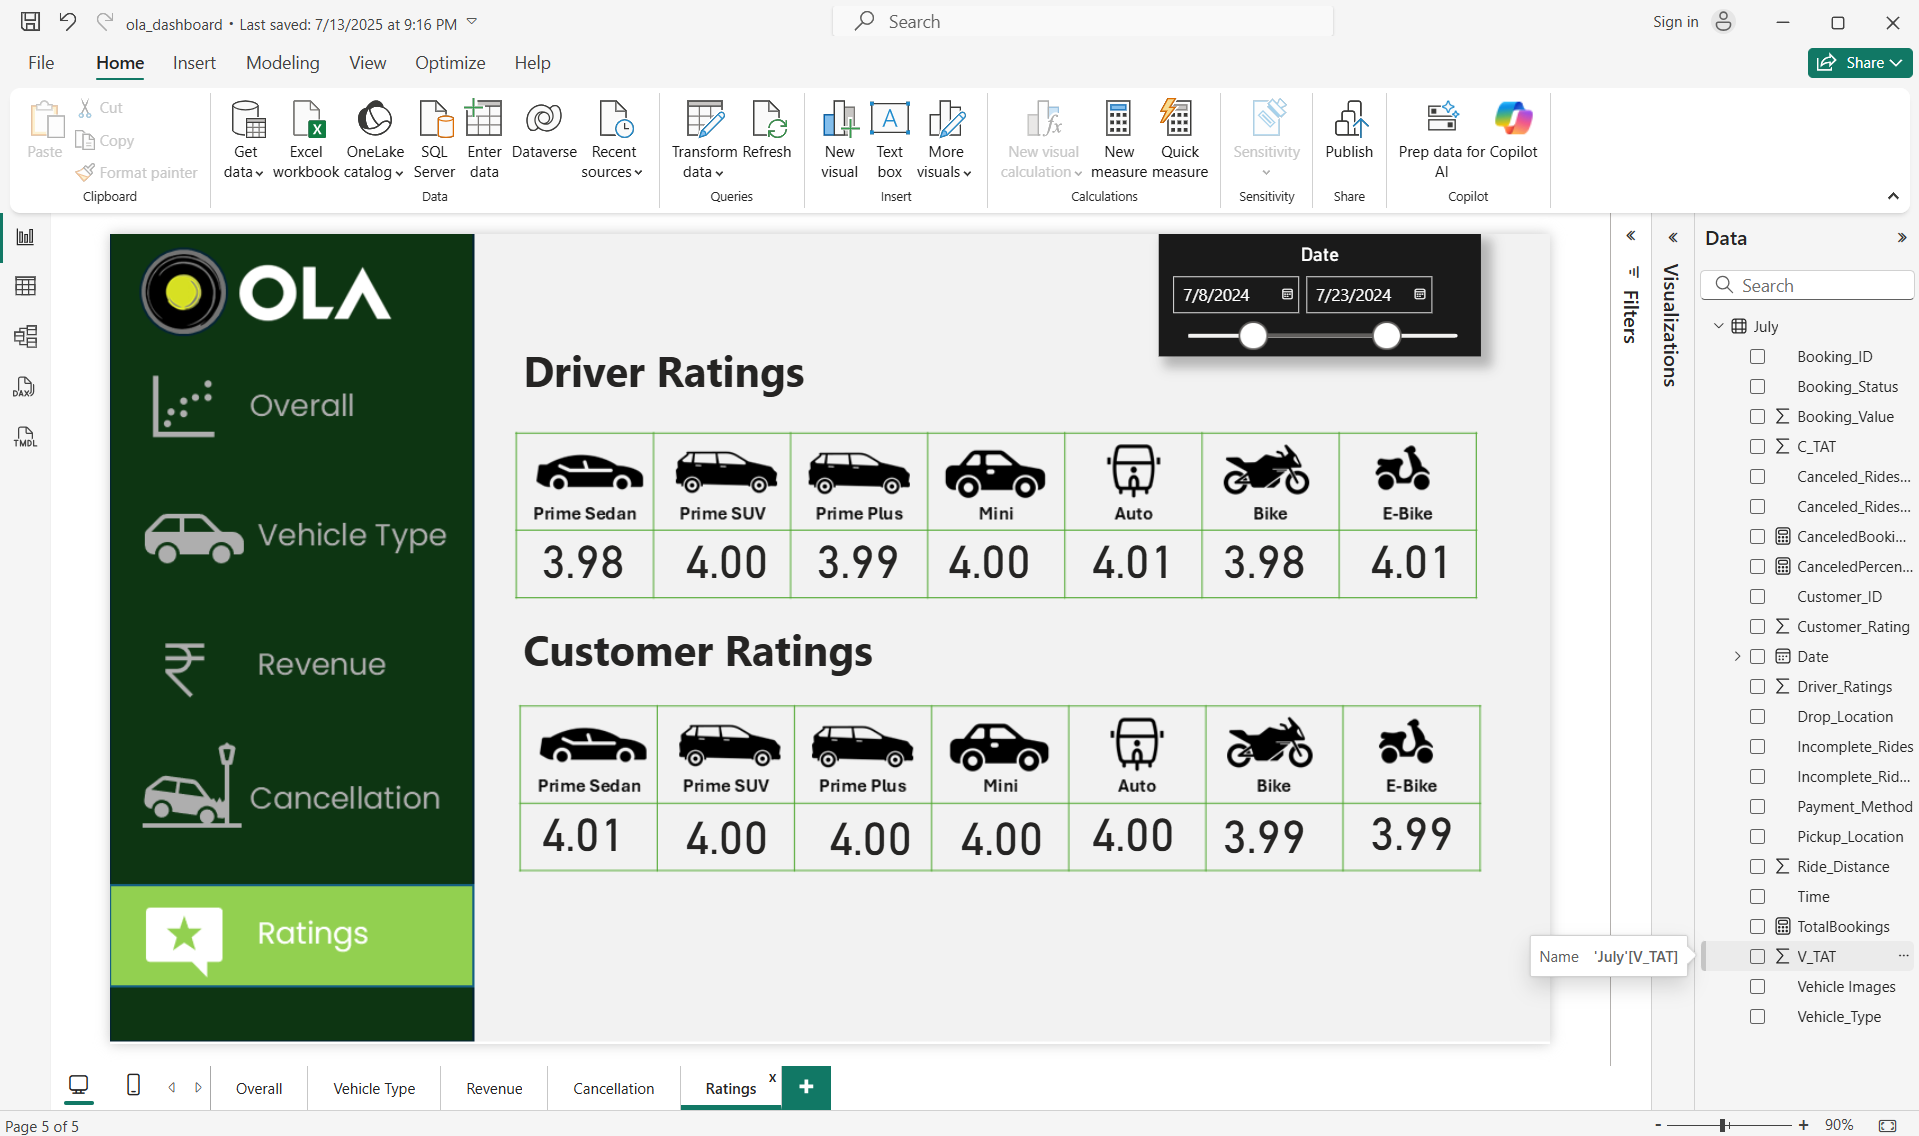

The dashboard page shown, as its layout file describes it:
{"tool":"powerbi","page":{"name":"Ratings","canvas":[1280,720],"ordinal":4},"visuals":[{"type":"actionButton","box":[0,224.5,324.3,91.5],"z":0},{"type":"actionButton","box":[0,338.8,324.3,91.5],"z":1000},{"type":"actionButton","box":[0,455.2,324.3,91.5],"z":2000},{"type":"actionButton","box":[0,108.1,324.3,91.5],"z":3000},{"type":"card","fields":{"Values":["Avg(July.Driver_Ratings)"]},"box":[362.3,259.3,116.6,57.6],"z":4000},{"type":"card","fields":{"Values":["Avg(July.Driver_Ratings)"]},"box":[489.9,259.3,116.6,57.6],"z":5000},{"type":"card","fields":{"Values":["Avg(July.Driver_Ratings)"]},"box":[606.5,259.3,116.6,57.6],"z":6000},{"type":"card","fields":{"Values":["Avg(July.Driver_Ratings)"]},"box":[723.2,259.3,116.6,57.6],"z":7000},{"type":"card","fields":{"Values":["Avg(July.Driver_Ratings)"]},"box":[850.8,259.3,116.6,57.6],"z":8000},{"type":"card","fields":{"Values":["Avg(July.Driver_Ratings)"]},"box":[967.4,259.3,116.6,57.6],"z":9000},{"type":"card","fields":{"Values":["Avg(July.Driver_Ratings)"]},"box":[1099.1,259.3,116.6,57.6],"z":10000},{"type":"card","fields":{"Values":["Avg(July.Customer_Rating)"]},"box":[362.3,500.9,116.6,57.6],"z":11000},{"type":"textbox","box":[362.3,90.6,314.2,63.1],"z":12000},{"type":"card","fields":{"Values":["Avg(July.Customer_Rating)"]},"box":[489.9,506.3,116.6,52.1],"z":13000},{"type":"card","fields":{"Values":["Avg(July.Customer_Rating)"]},"box":[734.1,489.9,116.6,86.4],"z":14000},{"type":"card","fields":{"Values":["Avg(July.Customer_Rating)"]},"box":[617.5,507.7,116.6,52.1],"z":15000},{"type":"card","fields":{"Values":["Avg(July.Customer_Rating)"]},"box":[850.8,487.1,116.6,86.4],"z":16000},{"type":"card","fields":{"Values":["Avg(July.Customer_Rating)"]},"box":[967.4,488.5,116.6,86.4],"z":17000},{"type":"card","fields":{"Values":["Avg(July.Customer_Rating)"]},"box":[1099.1,485.8,116.6,86.4],"z":18000},{"type":"slicer","title":"Date","fields":{"Values":["July.Date"]},"box":[931.7,0,286.8,108.4],"z":18001},{"type":"textbox","box":[362.3,338.9,387,71.4],"z":18002}]}

Visuals, with their boxes on the page's 1280x720 design canvas (x1, y1, x2, y2). These are canvas units, not pixel positions in the 1919x1136 screenshot, which may show the page scaled, cropped or inside an application window:
actionButton: box=[0, 224, 324, 316]
actionButton: box=[0, 339, 324, 430]
actionButton: box=[0, 455, 324, 547]
actionButton: box=[0, 108, 324, 200]
card - Avg(July.Driver_Ratings): box=[362, 259, 479, 317]
card - Avg(July.Driver_Ratings): box=[490, 259, 606, 317]
card - Avg(July.Driver_Ratings): box=[606, 259, 723, 317]
card - Avg(July.Driver_Ratings): box=[723, 259, 840, 317]
card - Avg(July.Driver_Ratings): box=[851, 259, 967, 317]
card - Avg(July.Driver_Ratings): box=[967, 259, 1084, 317]
card - Avg(July.Driver_Ratings): box=[1099, 259, 1216, 317]
card - Avg(July.Customer_Rating): box=[362, 501, 479, 558]
textbox: box=[362, 91, 676, 154]
card - Avg(July.Customer_Rating): box=[490, 506, 606, 558]
card - Avg(July.Customer_Rating): box=[734, 490, 851, 576]
card - Avg(July.Customer_Rating): box=[618, 508, 734, 560]
card - Avg(July.Customer_Rating): box=[851, 487, 967, 574]
card - Avg(July.Customer_Rating): box=[967, 488, 1084, 575]
card - Avg(July.Customer_Rating): box=[1099, 486, 1216, 572]
"Date" slicer: box=[932, 0, 1218, 108]
textbox: box=[362, 339, 749, 410]
